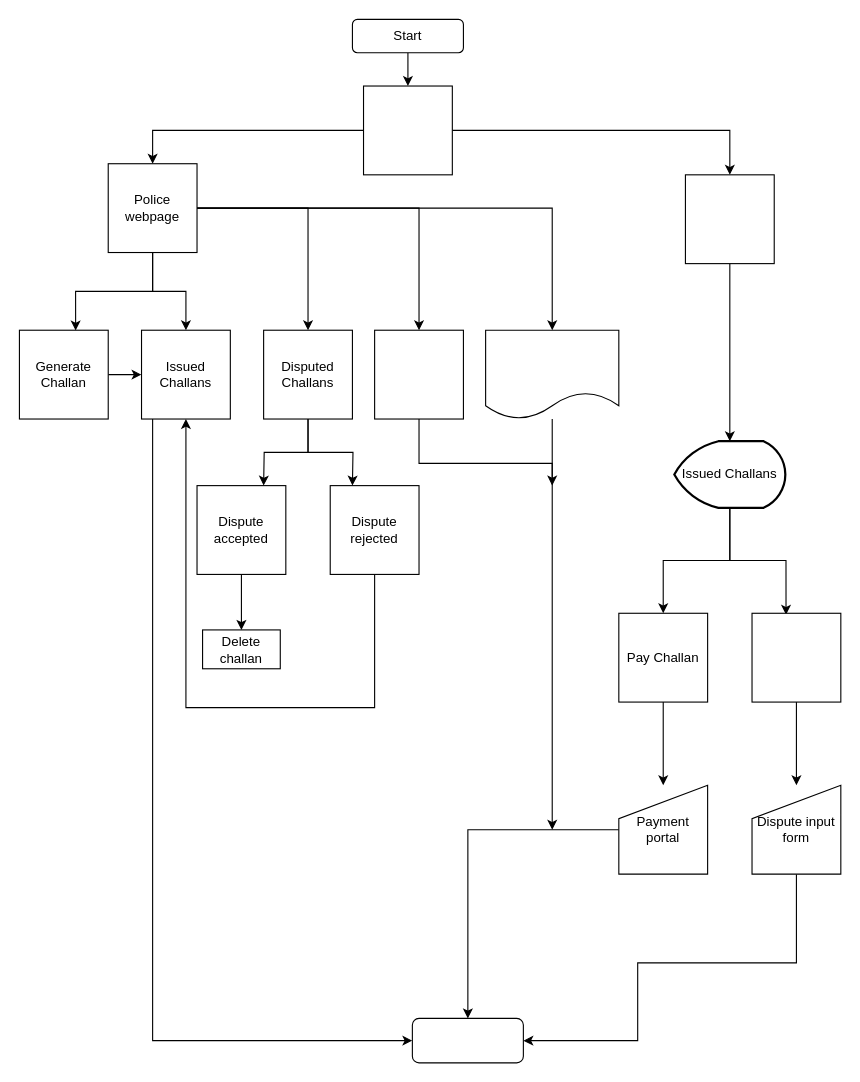
Some shapes in this 860 by 1082 pixel diagram are drawn without their labels. Each missing label, with the centre of its shape:
Dispute Challan: [796,657]
Home page: [407,130]
Paid Challans: [418,374]
Stop: [467,1040]
Vehicle owner webpage: [729,219]
Voilations report: [552,374]
